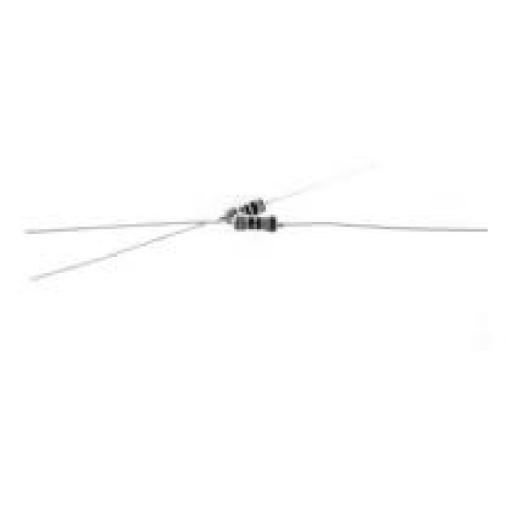RESISTOR: (175, 178, 315, 280)
